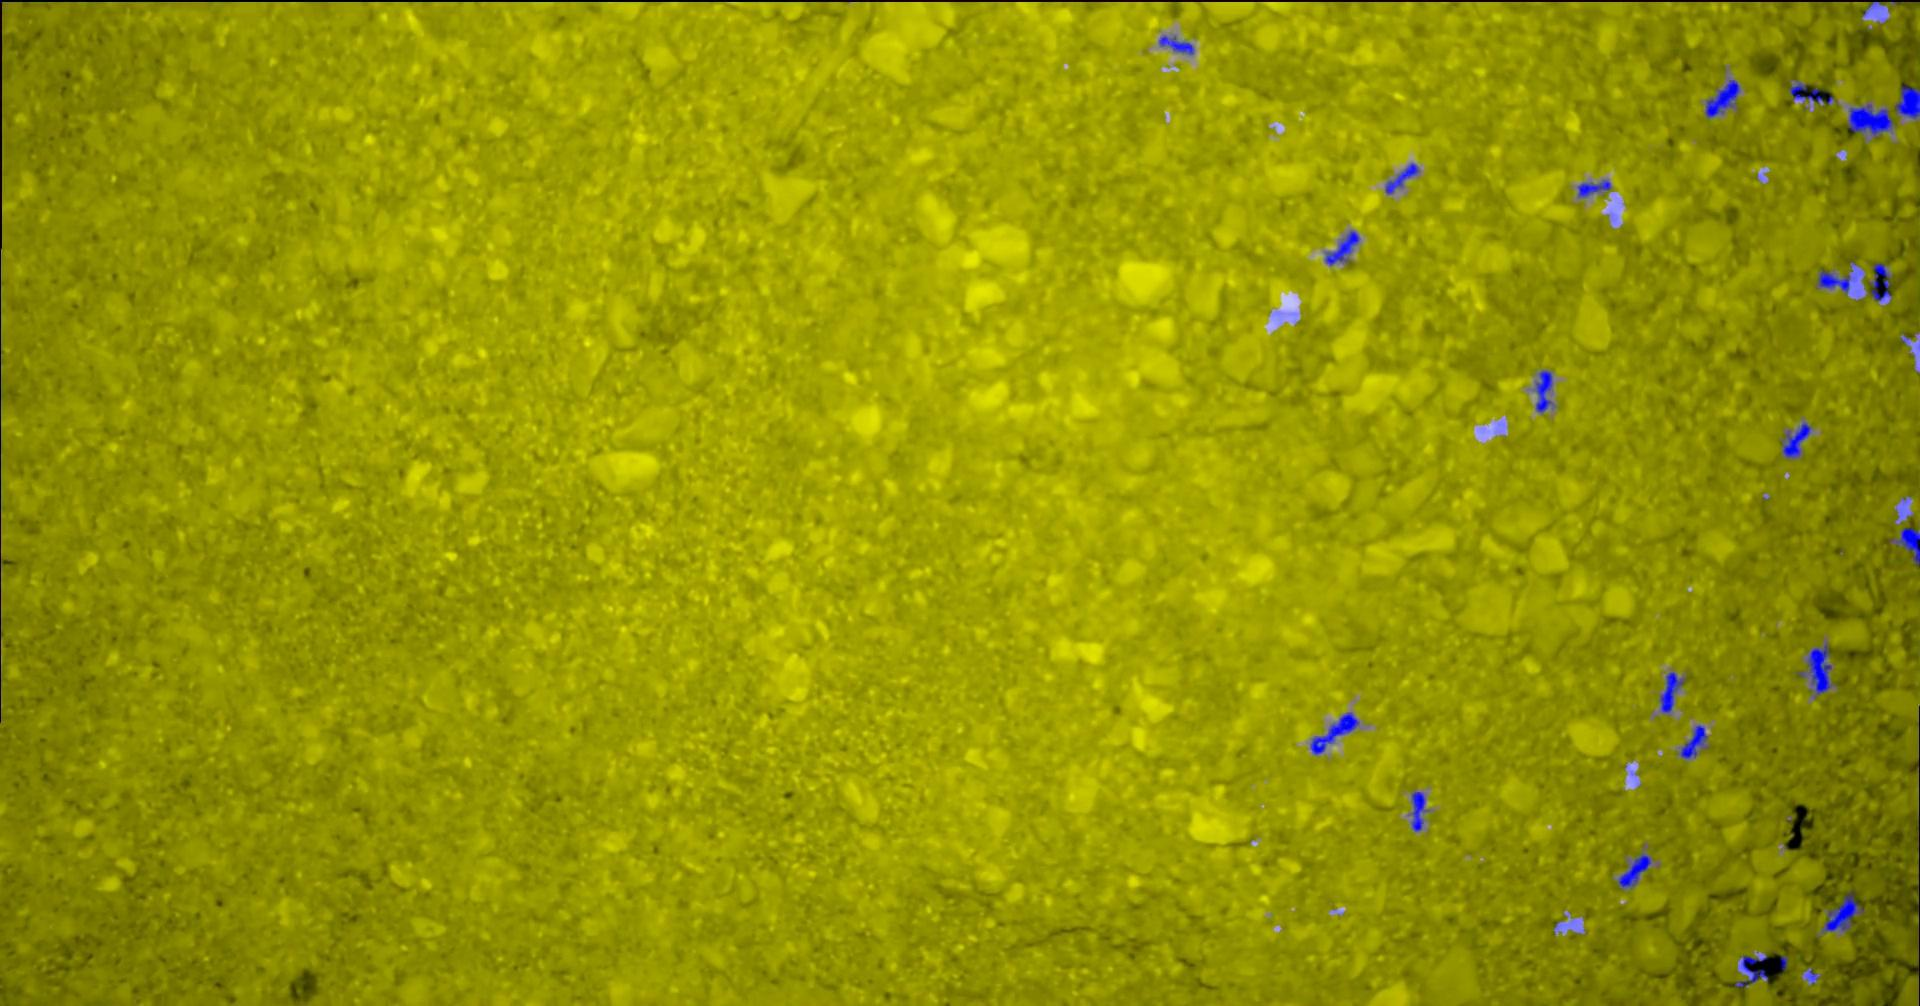ant: (1310, 713, 1360, 754), (1823, 890, 1865, 934), (1799, 643, 1832, 697), (1849, 104, 1895, 137), (1705, 79, 1741, 117), (1326, 230, 1361, 265), (1619, 854, 1653, 889), (1890, 526, 1920, 565), (1736, 954, 1770, 987), (1661, 671, 1688, 713), (1783, 420, 1812, 459), (1387, 163, 1421, 193), (1681, 724, 1709, 758), (1818, 269, 1857, 293), (1870, 262, 1893, 300), (1790, 79, 1823, 104), (1537, 370, 1556, 412), (1896, 85, 1920, 118), (1410, 791, 1427, 831), (1161, 36, 1195, 55), (1578, 179, 1611, 197), (1804, 967, 1821, 984)
